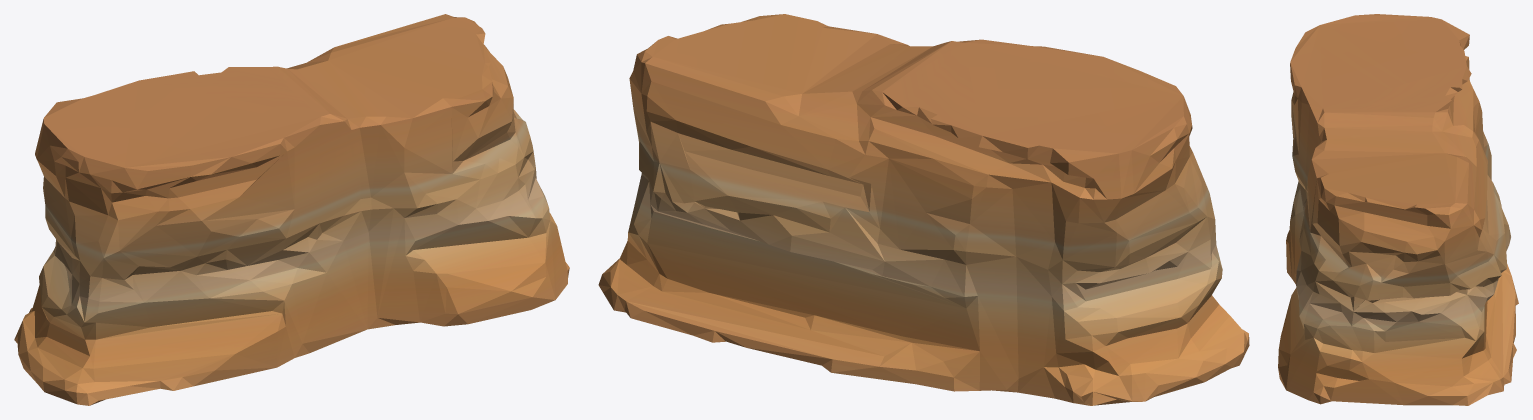
File: Monument_cliffA_large.fbx
The picture shows the model from 3 angles, left to right: view 1: azimuth 30°, elevation 25°; view 2: azimuth 150°, elevation 25°; view 3: azimuth 270°, elevation 25°; orthographic projection. The views are drawn at different scales.
Visible parts, largest first — view 1: Monument_cliffA_large; view 2: Monument_cliffA_large; view 3: Monument_cliffA_large.
Part boxes in pixels (box(x1,y1,x2,y2)): Monument_cliffA_large: box(14, 14, 569, 405); Monument_cliffA_large: box(598, 14, 1249, 405); Monument_cliffA_large: box(1278, 14, 1518, 405).
Size of the model in its own units: 65.54 by 26.75 by 30.44.
